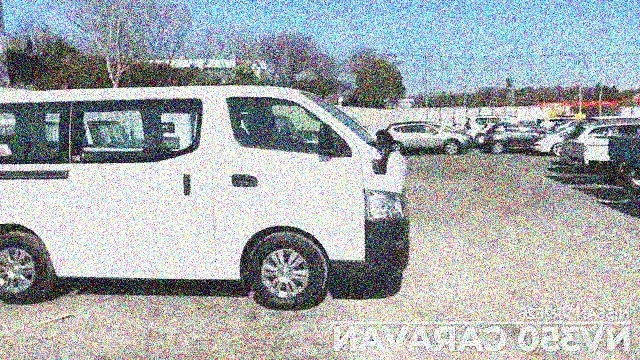van: (0, 81, 405, 310)
